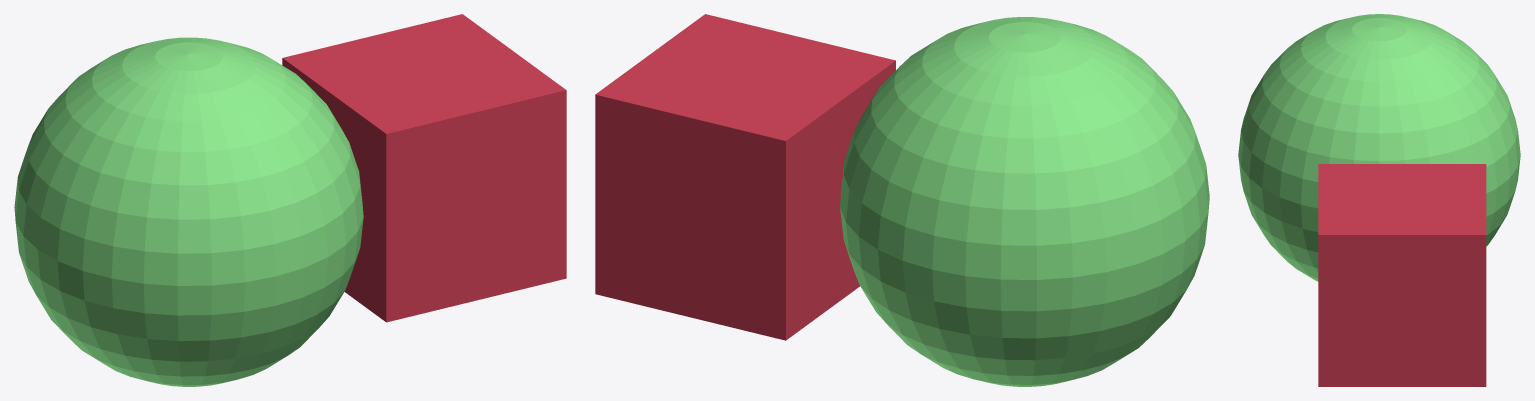
File: color.dae
3 views of the same model, side by side, from view 1: azimuth 30°, elevation 25°; view 2: azimuth 150°, elevation 25°; view 3: azimuth 270°, elevation 25° (orthographic). The views are drawn at different scales.
Parts seen in each view (by area): view 1: Sphere, Cube_001; view 2: Sphere, Cube_001; view 3: Sphere, Cube_001.
Boxes of the visible parts, bbox=[...] form: Sphere: bbox=[14, 37, 363, 386]; Cube_001: bbox=[282, 14, 566, 322]; Sphere: bbox=[840, 17, 1209, 386]; Cube_001: bbox=[595, 14, 895, 340]; Sphere: bbox=[1238, 14, 1520, 281]; Cube_001: bbox=[1318, 164, 1486, 386].
Size of what is drawn, in the model's own units: 5.45 by 3.37 by 3.37.
